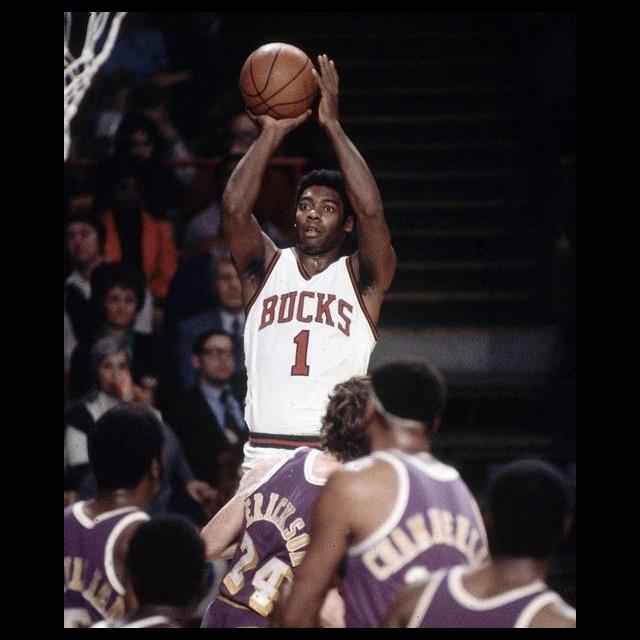basketball: (239, 43, 321, 122)
